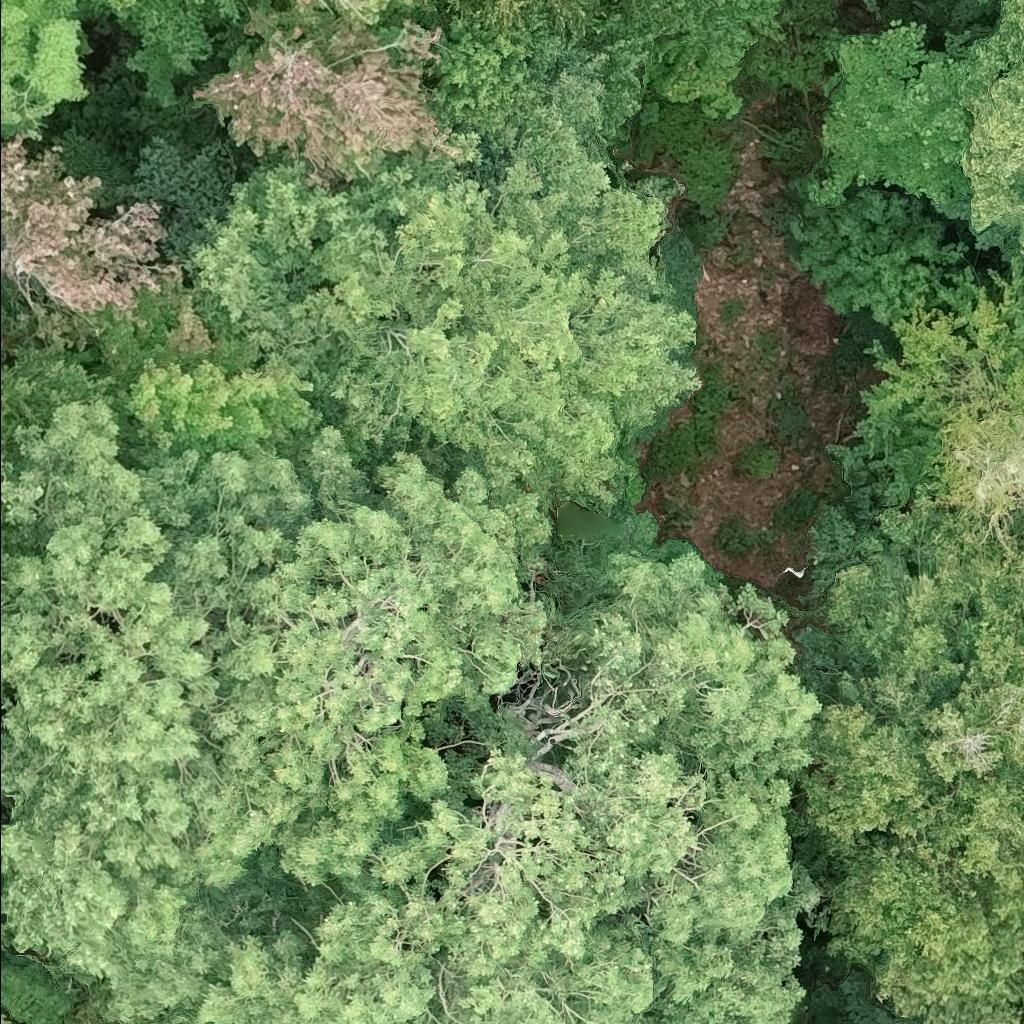crown: (0, 396, 828, 1023), (182, 27, 708, 508), (784, 441, 1023, 1023), (842, 252, 1023, 543), (190, 13, 465, 186), (95, 286, 323, 451), (812, 15, 977, 221), (783, 161, 971, 331), (0, 349, 110, 547), (425, 8, 571, 136), (958, 0, 1023, 257), (81, 0, 215, 111), (589, 0, 791, 68), (0, 0, 91, 138), (433, 0, 609, 42), (281, 0, 440, 24), (0, 1005, 16, 1023), (0, 679, 5, 696)
